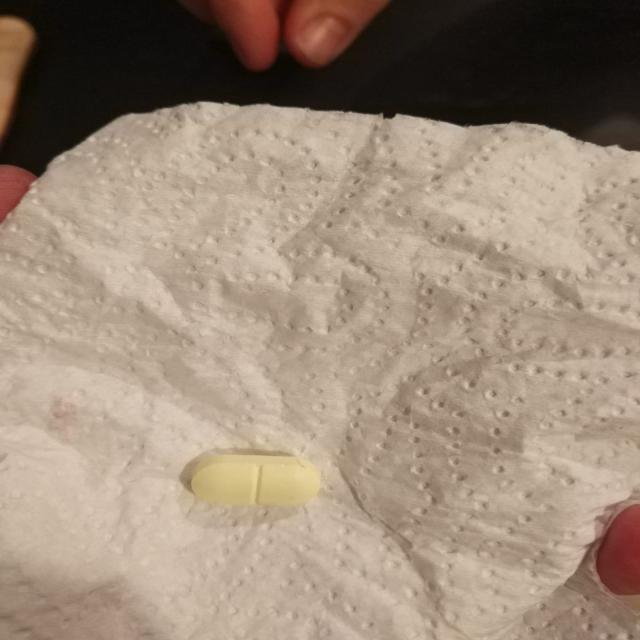pills: (176, 442, 335, 516)
